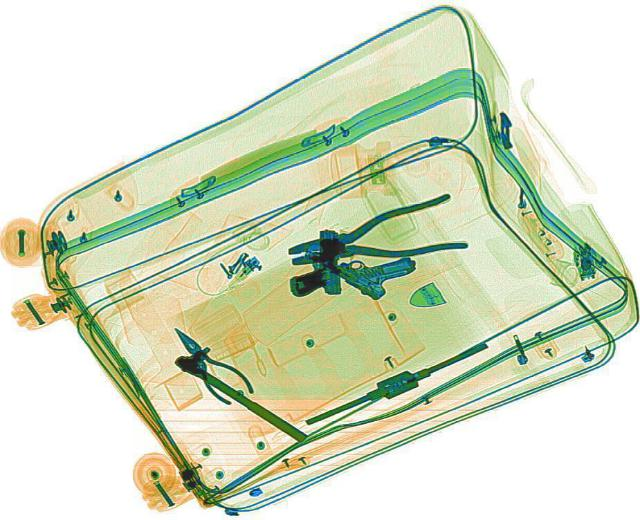Gun: (304, 219, 420, 301), (284, 227, 342, 295)
Pliers: (275, 191, 469, 285), (156, 317, 258, 406)
